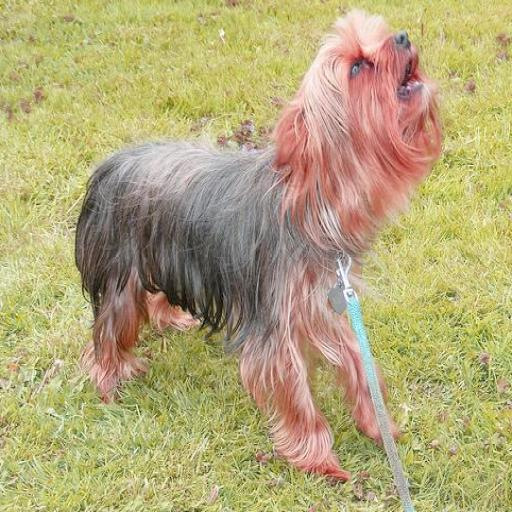dog_face: (288, 25, 430, 192)
